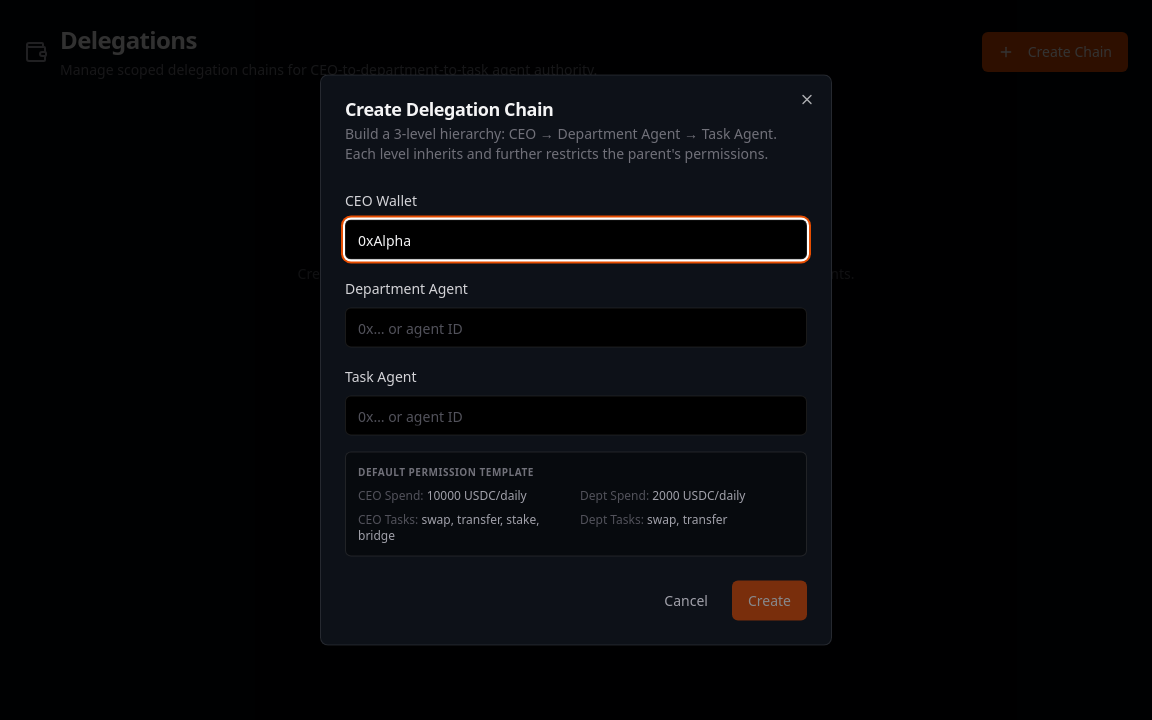
Test: DelegationsPage › displays multiple chains when created
Earlier steps of the test are not shown.
Type "0xBeta" into the field labelled "Department Agent" at (576, 328), box top-left (345, 308), bottom-right (807, 348)
Type "0xGamma" into the field labelled "Task Agent" at (576, 416), box top-left (345, 396), bottom-right (807, 436)
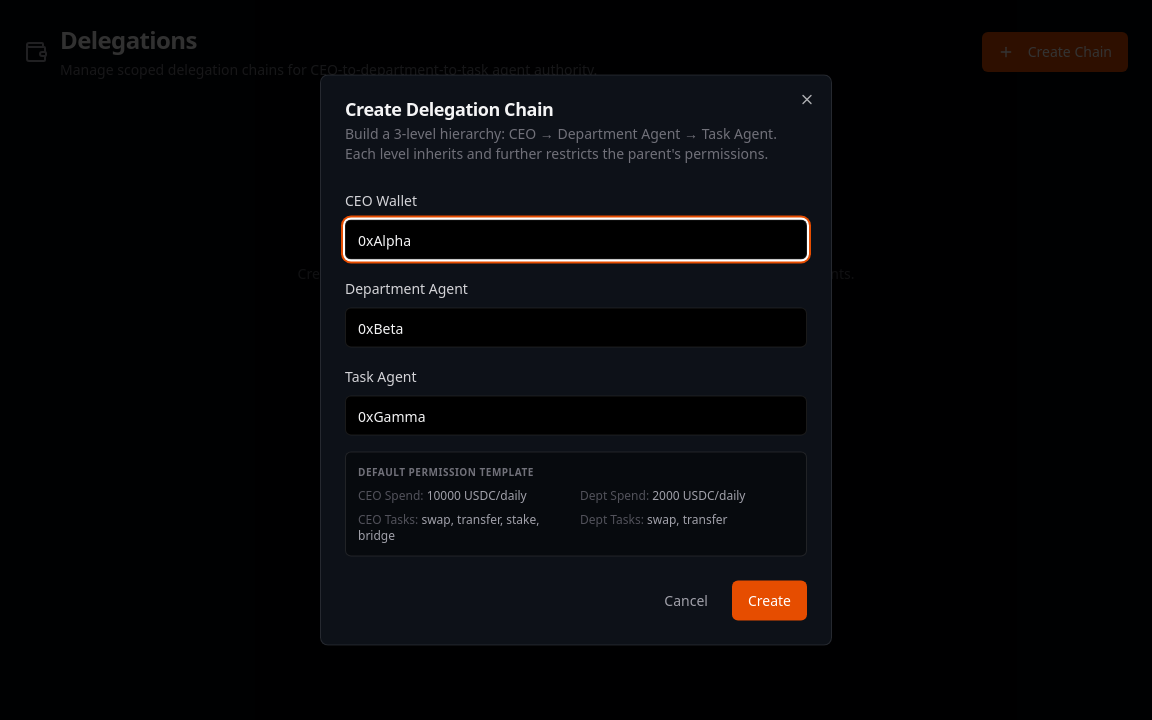
Click the button "Create" at (769, 600), box top-left (732, 580), bottom-right (807, 620)
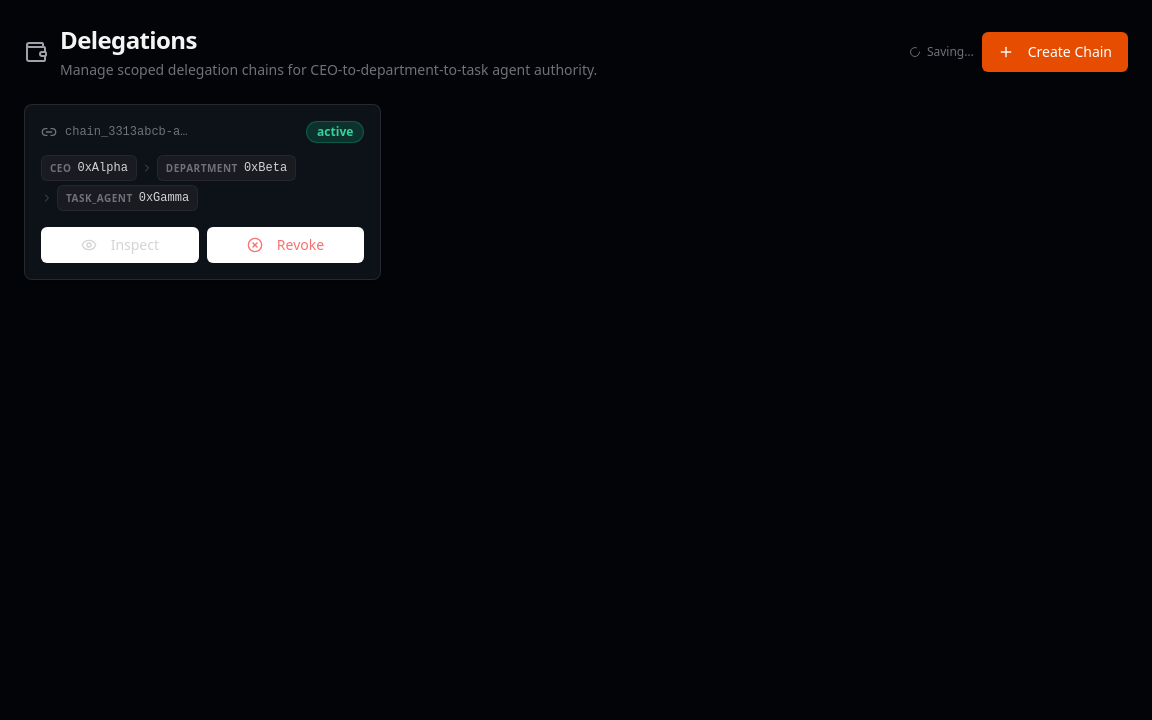
Expected: the text "0xAlpha" is shown, top-left (77, 160), bottom-right (128, 176)
# Create second chain
Click the button "Create Chain" at (1055, 52), box top-left (982, 32), bottom-right (1128, 72)
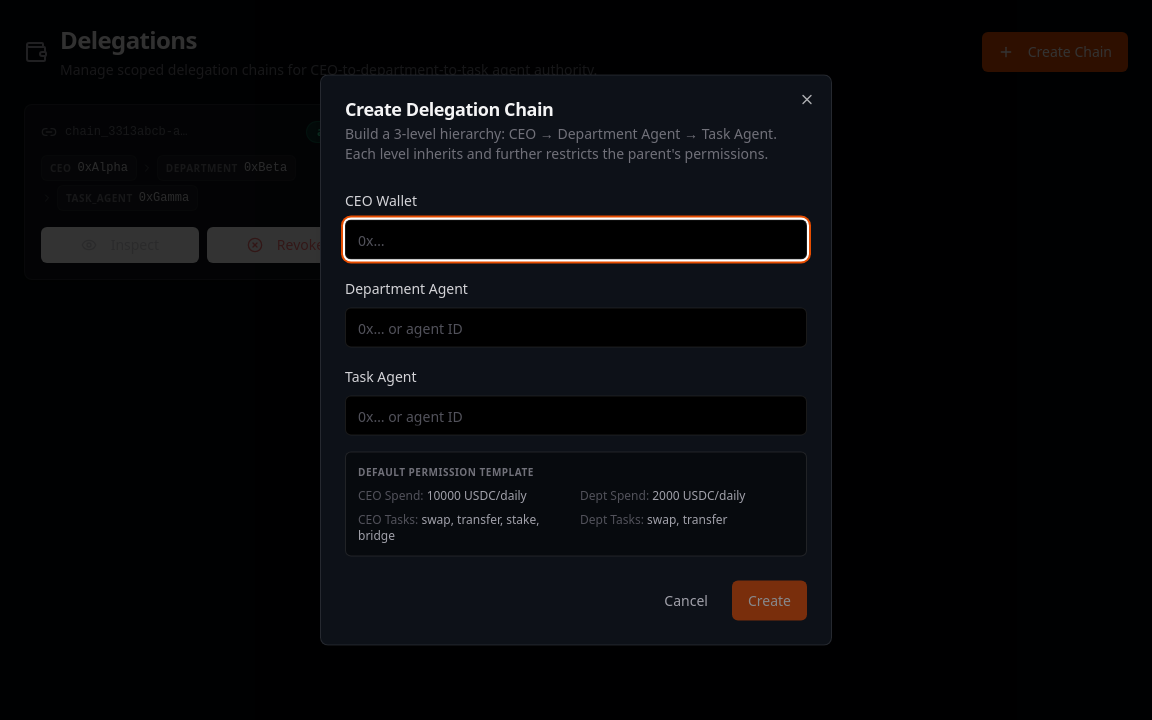
Expected: the heading "Create Delegation Chain" is shown, top-left (345, 96), bottom-right (553, 120)
Type "0xDelta" into the field labelled "CEO Wallet" at (576, 240), box top-left (345, 220), bottom-right (807, 260)
Type "0xEpsilon" into the field labelled "Department Agent" at (576, 328), box top-left (345, 308), bottom-right (807, 348)
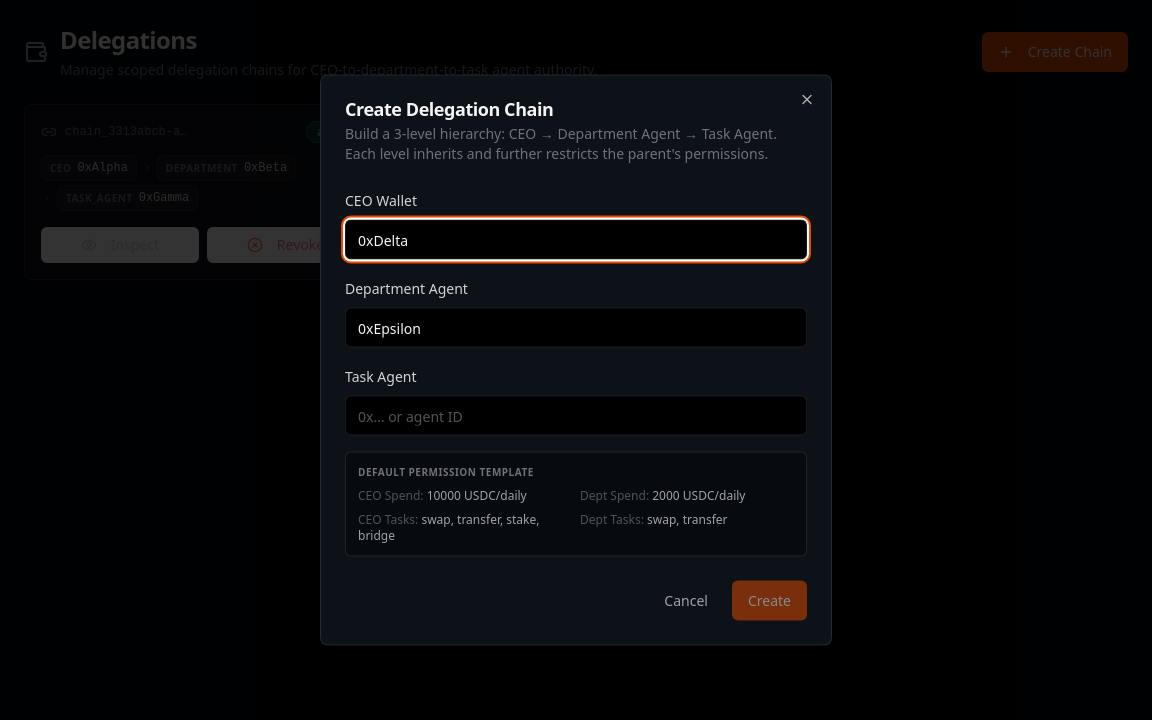
Type "0xZeta" into the field labelled "Task Agent" at (576, 416), box top-left (345, 396), bottom-right (807, 436)
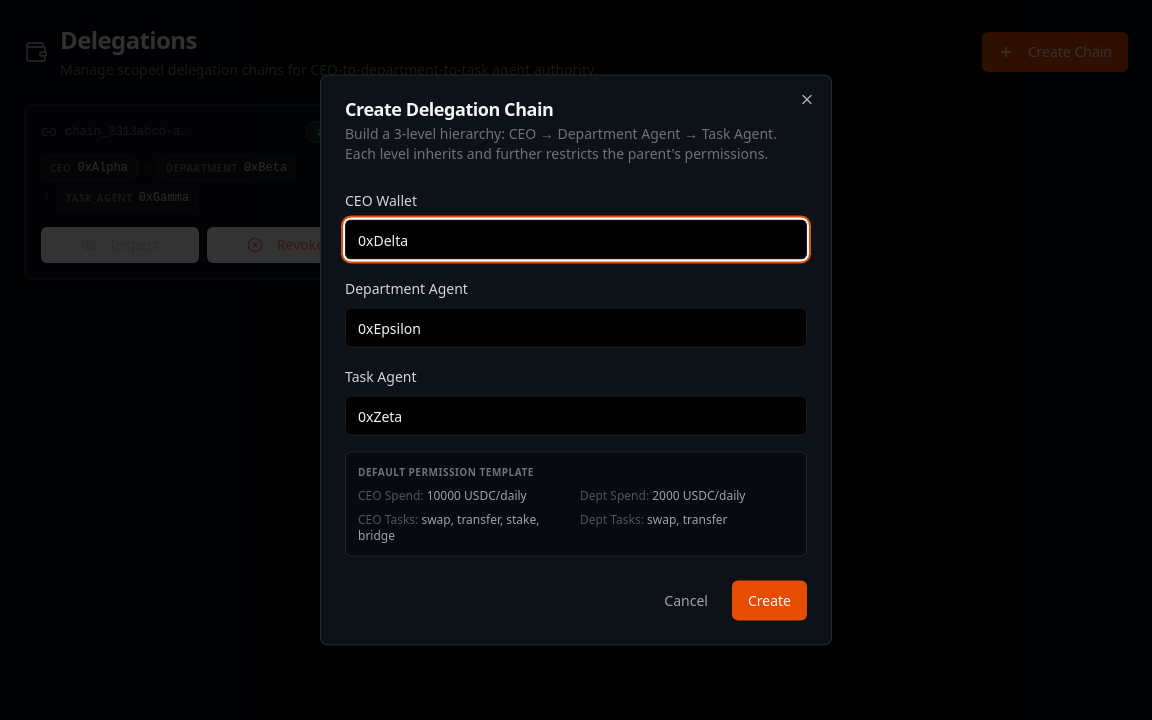
Click the button "Create" at (769, 600), box top-left (732, 580), bottom-right (807, 620)
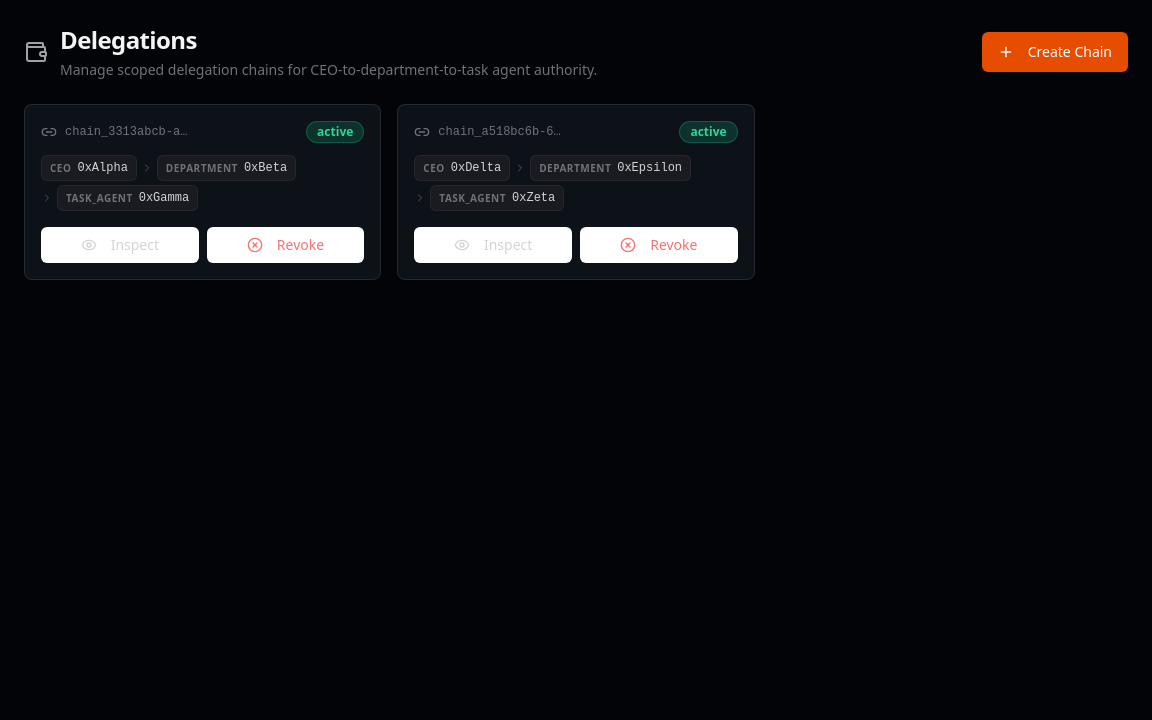
Expected: the text "0xAlpha" is shown, top-left (77, 160), bottom-right (128, 176)
Expected: the text "0xDelta" is shown, top-left (451, 160), bottom-right (501, 176)
